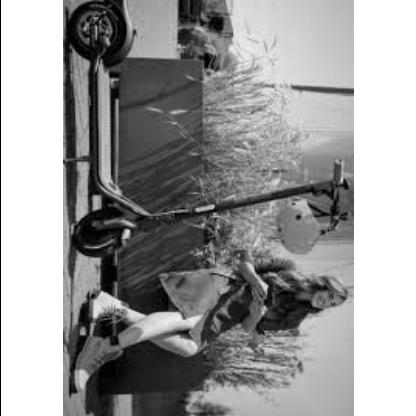bike: (66, 2, 351, 415), (69, 155, 349, 416)
